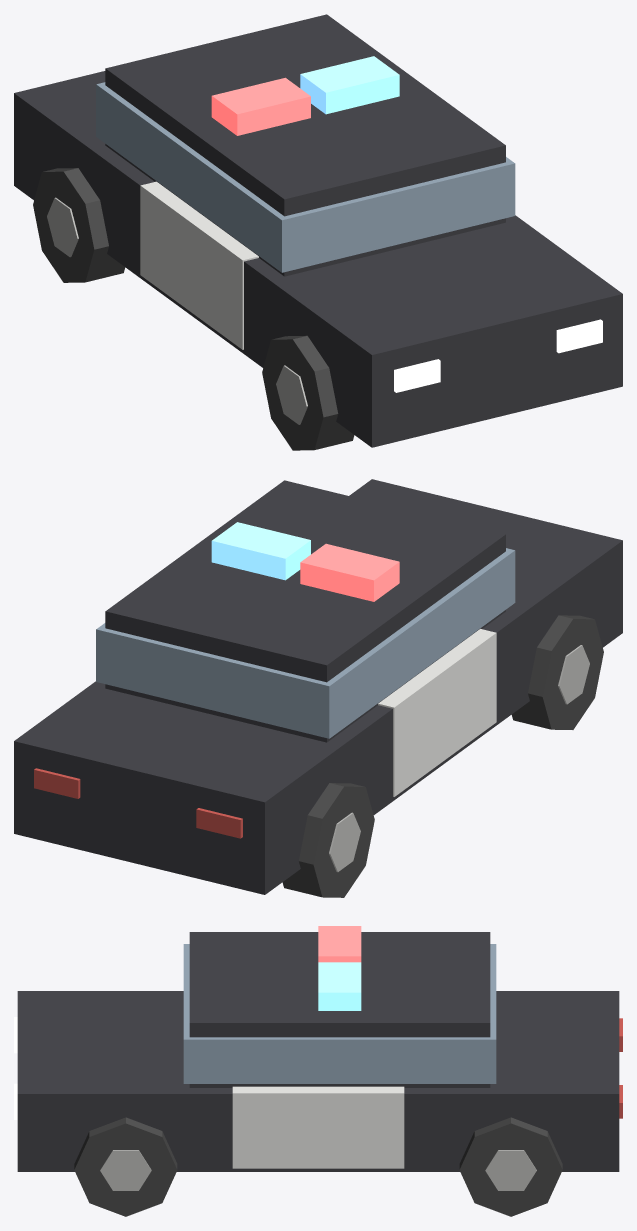
File: police_car.glb
3 renders of one model, top to bottom at view 1: azimuth 30°, elevation 25°; view 2: azimuth 150°, elevation 25°; view 3: azimuth 270°, elevation 25°, orthographic. The views are drawn at different scales.
Visible parts, largest first — view 1: police_car; view 2: police_car; view 3: police_car.
Part boxes in pixels (left/top/right/bottom): police_car: left=14, top=14, right=622, bottom=450; police_car: left=14, top=479, right=622, bottom=897; police_car: left=14, top=926, right=622, bottom=1216.
Bounding box in the file's own units: 1.92 × 1.54 × 4.25.
